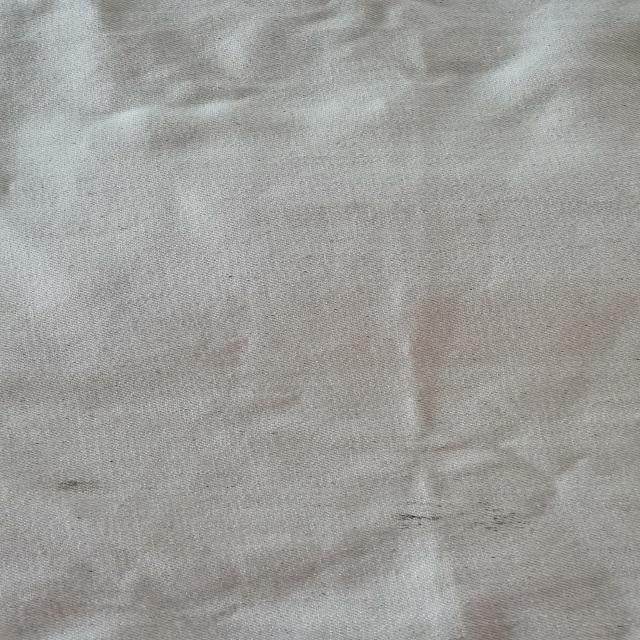taaaches: (376, 496, 554, 546), (48, 461, 123, 507)
